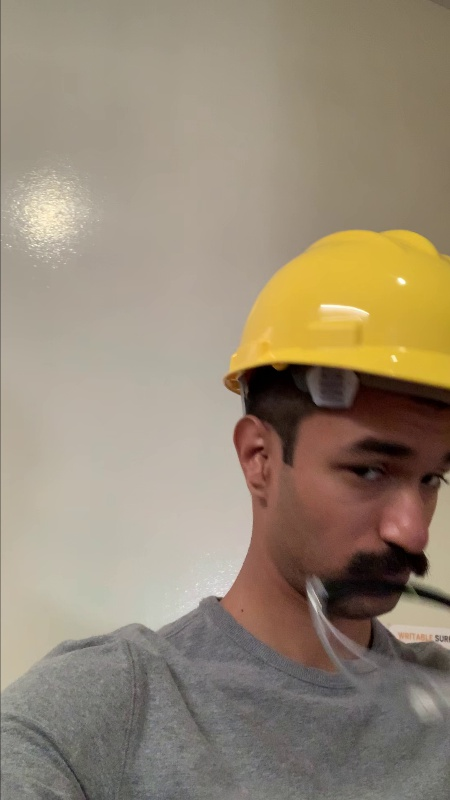helmet: (224, 217, 450, 377)
